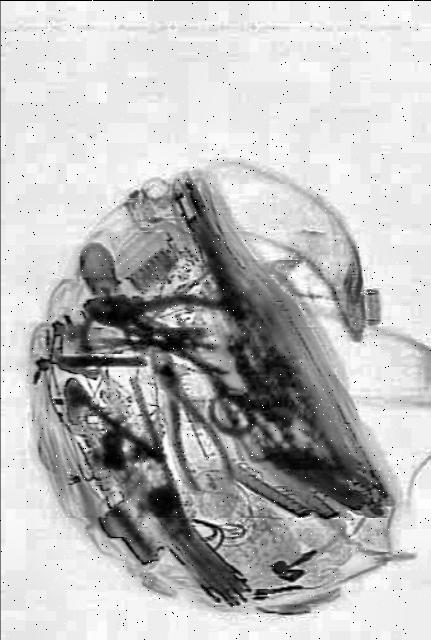Pliers: (78, 262, 242, 378), (133, 327, 239, 505)
